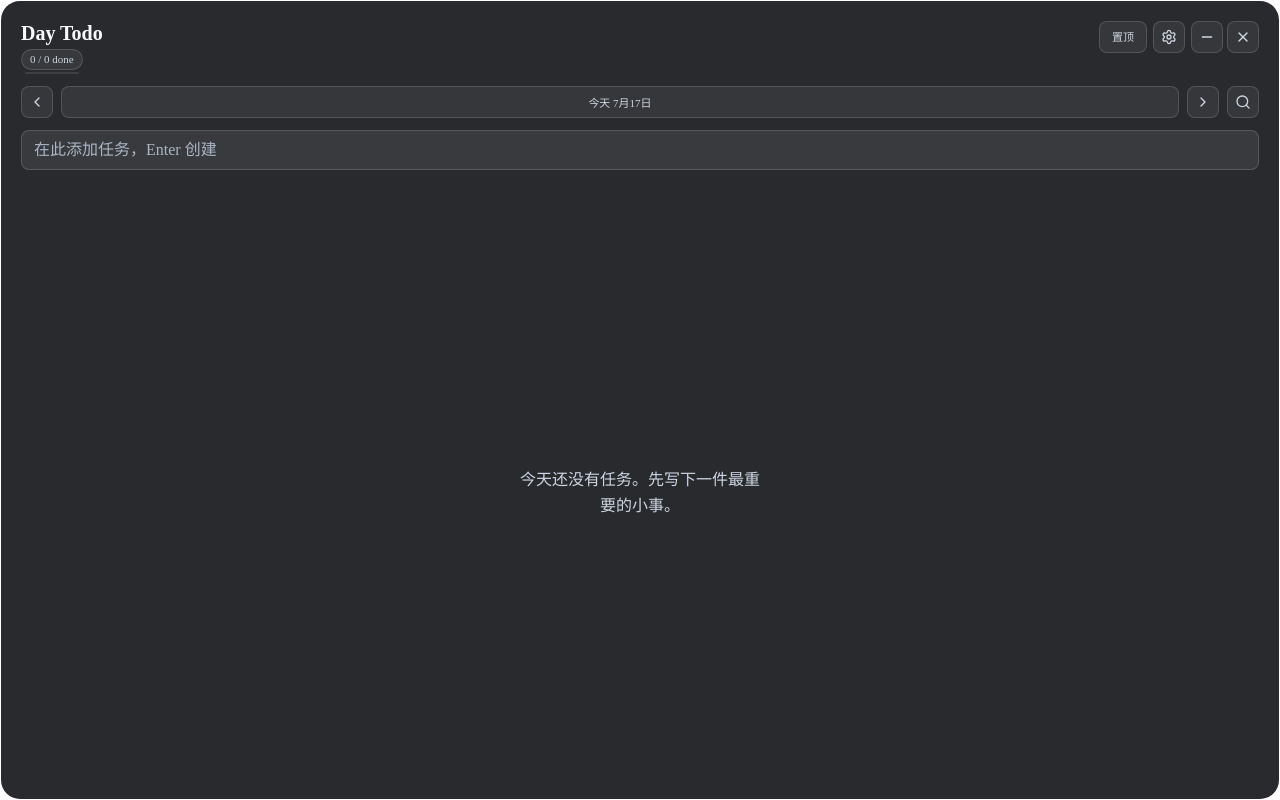
Test: App native window lifecycle › commits and persists a user mode only after native confirmation
The image size is (1280, 800).
Click the button with aria-label "窗口层级：置顶": [1123, 37] box 1099,21 -> 1147,53
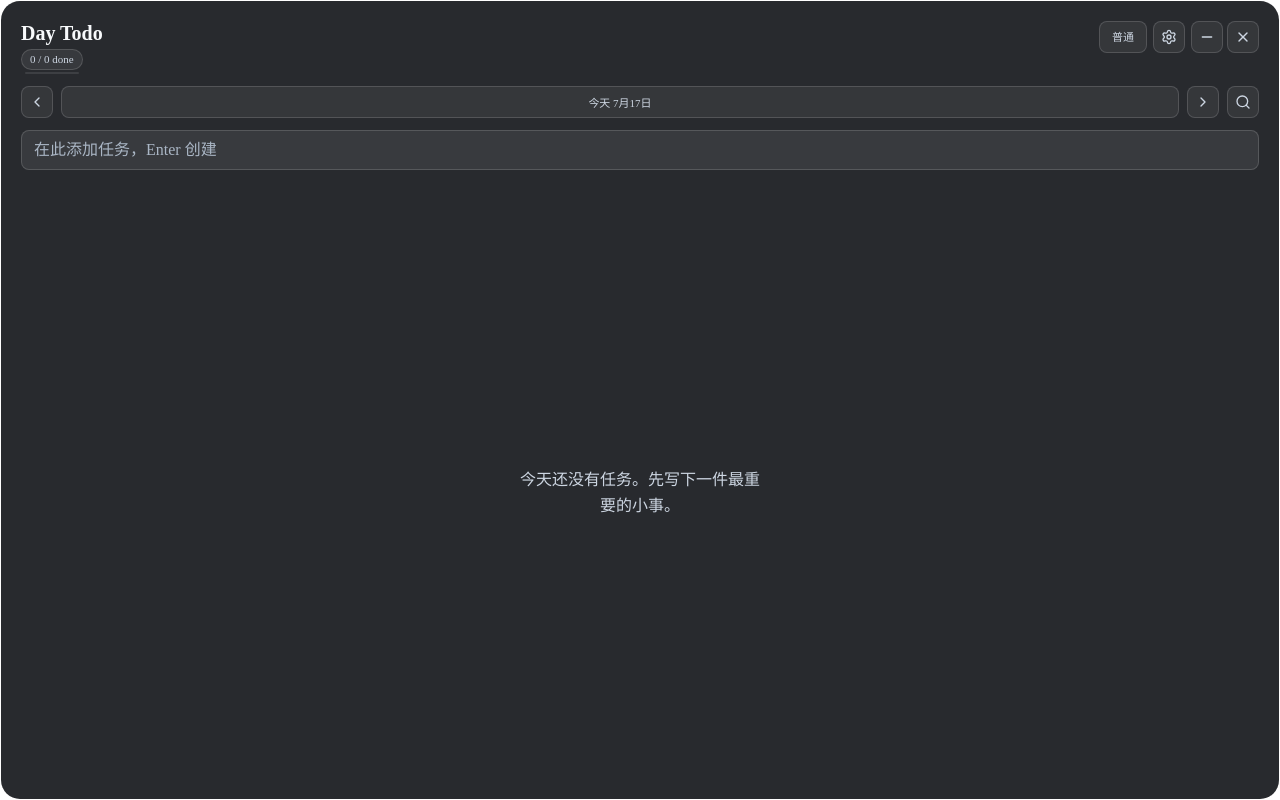
Check: the button with aria-label "窗口层级：普通" is shown, box 1099,21 -> 1147,53
